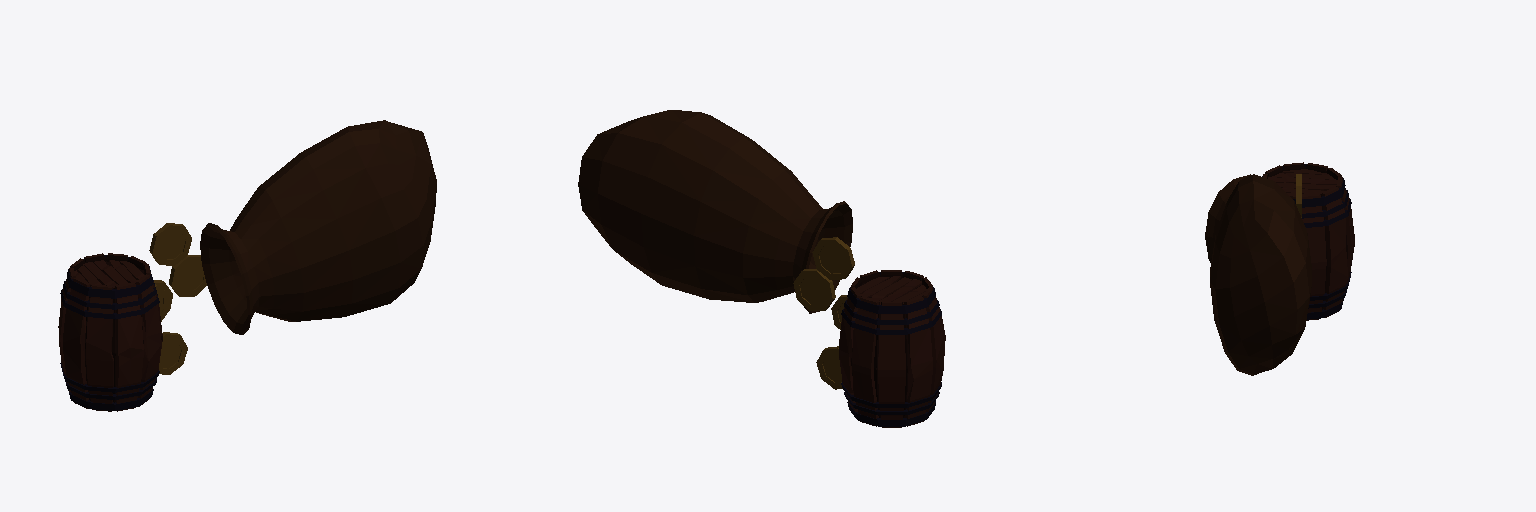
Rendered from Barrel_Cylinder.obj.
The picture shows the model from 3 angles: view 1: azimuth 30°, elevation 25°; view 2: azimuth 150°, elevation 25°; view 3: azimuth 270°, elevation 25°; orthographic projection.
Parts seen in each view (by area): view 1: Bag_Coins_Cylinder.001, Barrel_Cylinder.015; view 2: Bag_Coins_Cylinder.001, Barrel_Cylinder.015; view 3: Bag_Coins_Cylinder.001, Barrel_Cylinder.015.
Part boxes in pixels (left/top/right/bottom): Bag_Coins_Cylinder.001: left=149, top=120, right=436, bottom=374; Barrel_Cylinder.015: left=58, top=253, right=162, bottom=411; Bag_Coins_Cylinder.001: left=578, top=110, right=854, bottom=389; Barrel_Cylinder.015: left=839, top=270, right=945, bottom=427; Bag_Coins_Cylinder.001: left=1205, top=174, right=1311, bottom=375; Barrel_Cylinder.015: left=1262, top=162, right=1354, bottom=320.
Bounding box in the file's own units: 4.09 × 2.47 × 1.47.